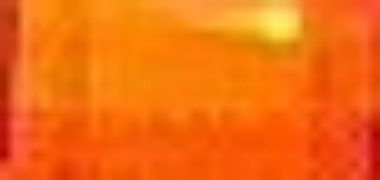Hotspot: (194, 2, 311, 48)
